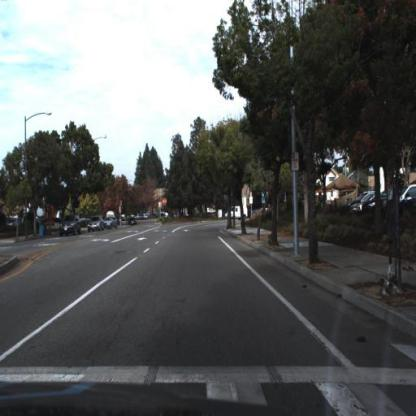car: (57, 212, 84, 240), (85, 212, 110, 237), (348, 186, 372, 211), (84, 213, 104, 236), (101, 212, 121, 233), (125, 213, 140, 230)
